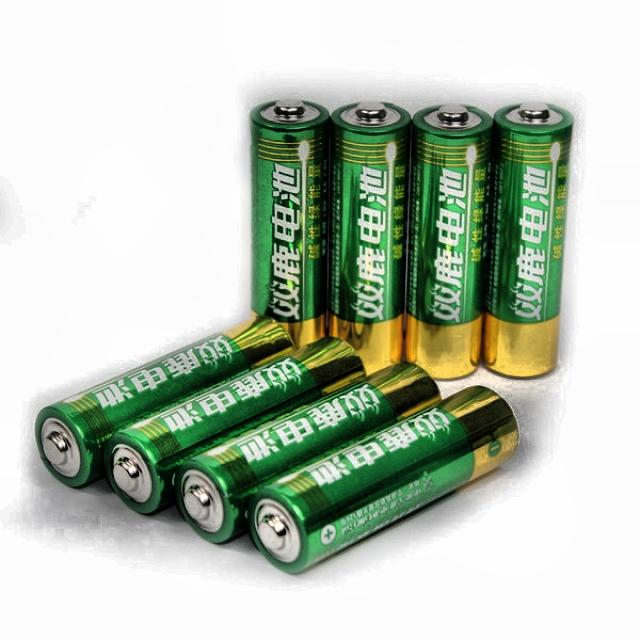Non-Valuable Waste - Batteries: (248, 388, 518, 572), (175, 362, 440, 542), (104, 338, 365, 513), (35, 316, 294, 487), (482, 102, 574, 378), (405, 105, 492, 379), (329, 101, 410, 373), (250, 99, 329, 346)
